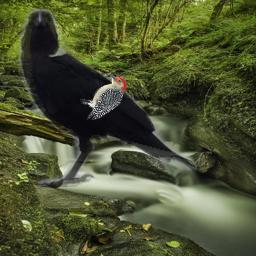Crow: (17, 8, 197, 187)
Woodpecker: (80, 74, 127, 120)
